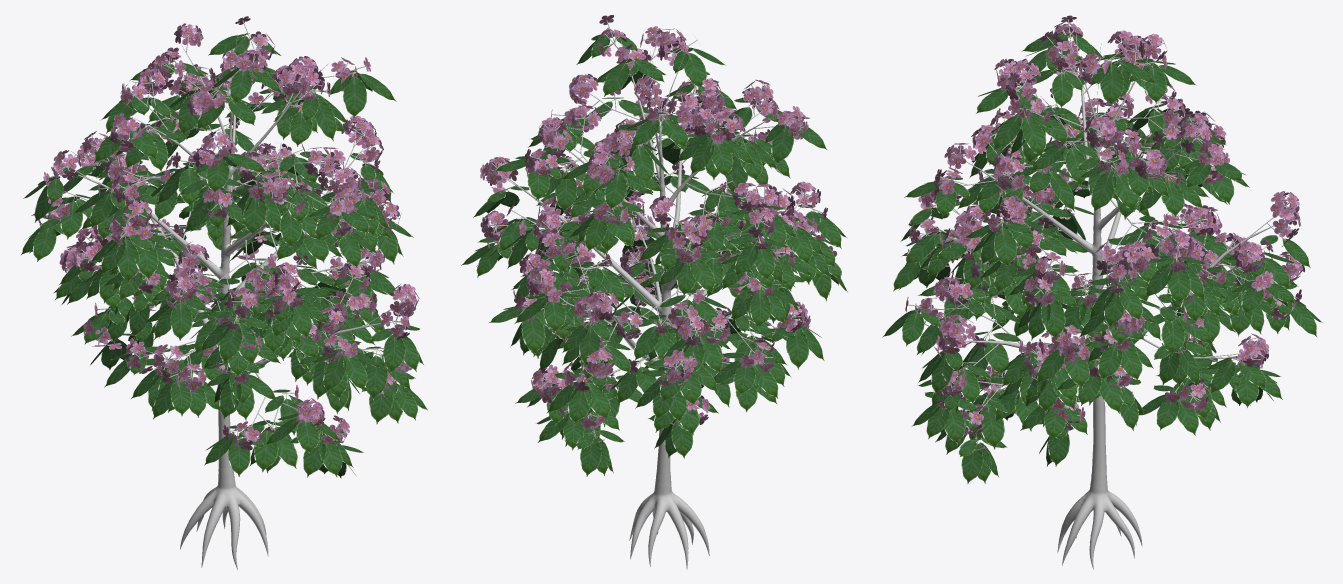
Rendered from MESH_TabebuiaRosea_Y_LOD0.fbx.
3 renders of one model, left to right at view 1: azimuth 30°, elevation 25°; view 2: azimuth 150°, elevation 25°; view 3: azimuth 270°, elevation 25°, orthographic. The views are drawn at different scales.
Visible parts, largest first — view 1: MI_LOD0_001, MI_LOD0_002, MI_LOD0; view 2: MI_LOD0_001, MI_LOD0_002, MI_LOD0; view 3: MI_LOD0_001, MI_LOD0_002, MI_LOD0.
Boxes of the visible parts, left/top/right/bottom form: MI_LOD0_001: left=20, top=33, right=428, bottom=478; MI_LOD0_002: left=38, top=16, right=420, bottom=450; MI_LOD0: left=42, top=20, right=416, bottom=569; MI_LOD0_001: left=461, top=31, right=847, bottom=476; MI_LOD0_002: left=480, top=15, right=837, bottom=443; MI_LOD0: left=487, top=20, right=824, bottom=569; MI_LOD0_001: left=882, top=32, right=1323, bottom=484; MI_LOD0_002: left=905, top=15, right=1304, bottom=450; MI_LOD0: left=906, top=19, right=1299, bottom=569.
Bounding box in the file's own units: 189 × 257 × 197.
